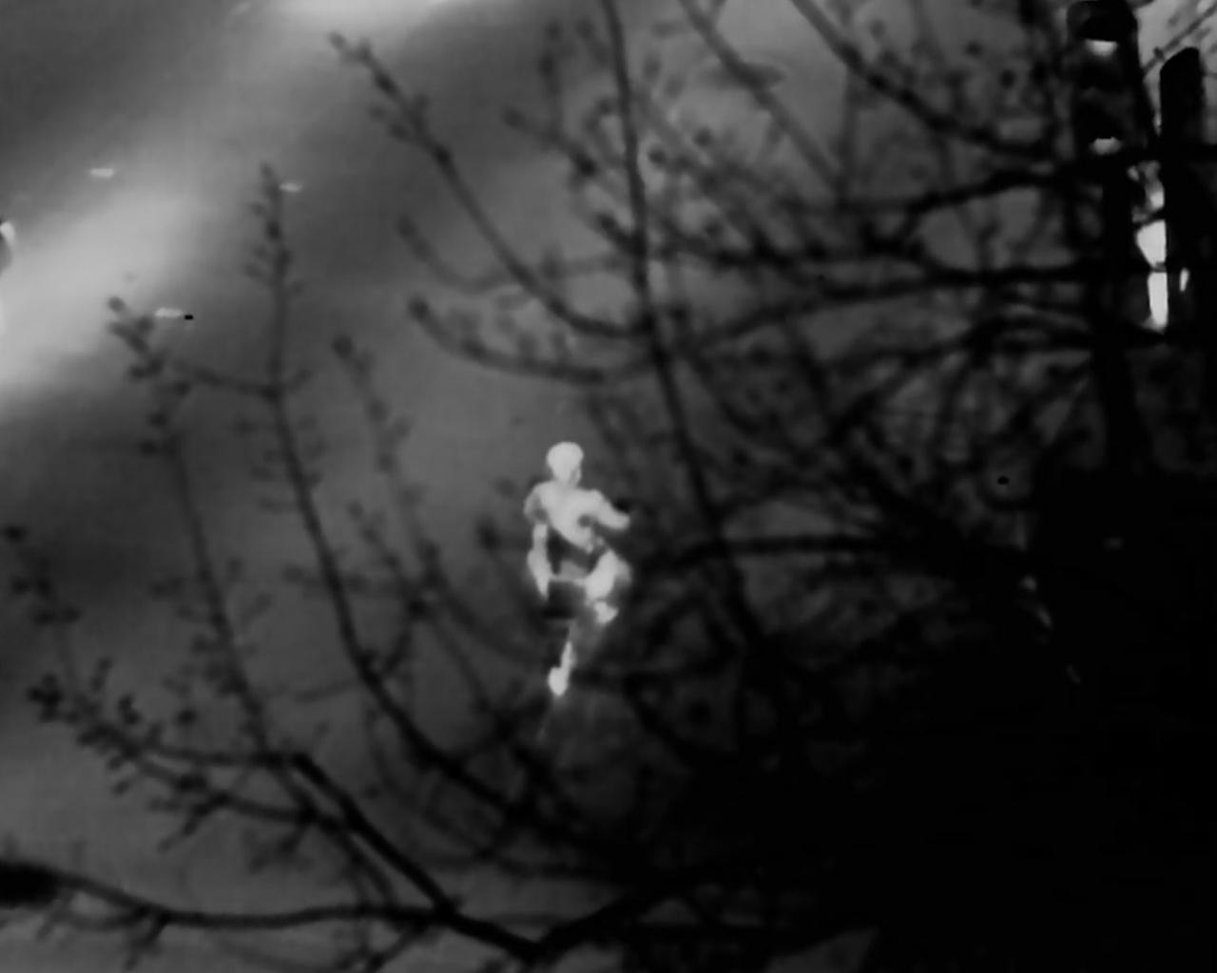person: (528, 435, 633, 657)
